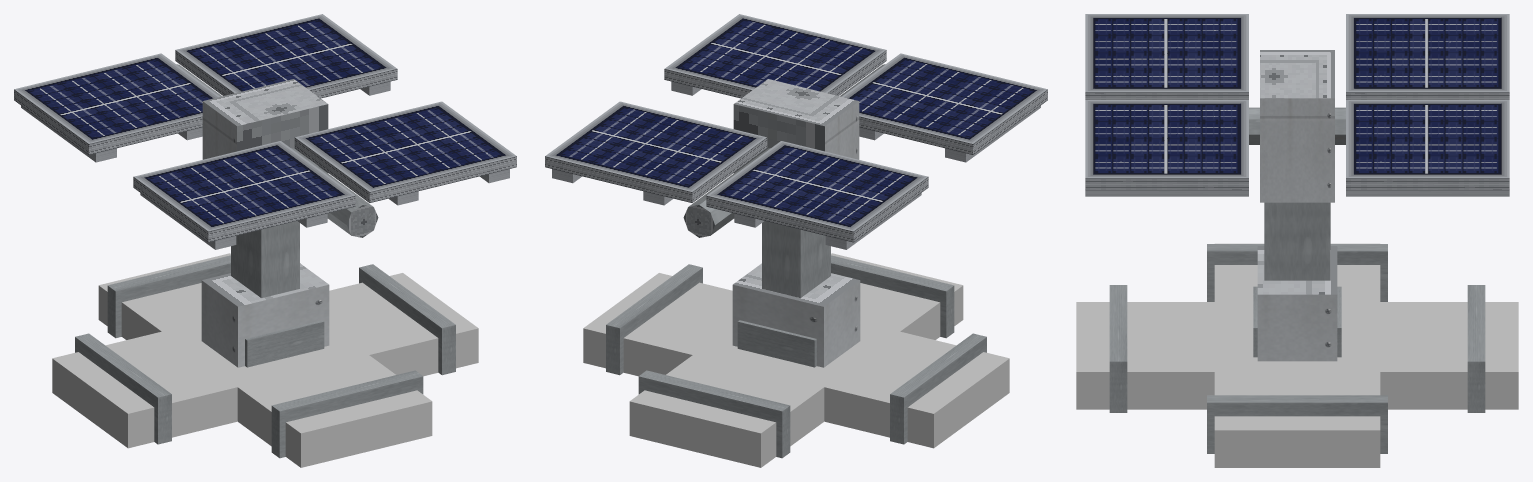
The model's file is pv_track.obj.
The picture shows the model from 3 angles, left to right: view 1: azimuth 30°, elevation 25°; view 2: azimuth 150°, elevation 25°; view 3: azimuth 270°, elevation 25°; orthographic projection. The views are drawn at different scales.
Visible parts, largest first — view 1: rotate_modules, harness_west, harness_south, harness_east, harness, motor, harness_north, pier, rotate_rails, rotate_tube; view 2: rotate_modules, harness_west, harness_north, harness_east, harness, motor, harness_south, pier, rotate_rails, rotate_tube; view 3: rotate_modules, harness_east, harness_north, harness_south, motor, harness_west, harness, pier, rotate_rails, rotate_tube.
Boxes of the visible parts, box(x1,y1,x2,y2) form: rotate_modules: box(14, 14, 516, 242); harness_west: box(52, 322, 296, 448); harness_south: box(237, 343, 432, 467); harness_east: box(286, 264, 478, 376); harness: box(201, 263, 329, 367); motor: box(202, 79, 328, 173); harness_north: box(98, 253, 230, 339); pier: box(231, 221, 299, 297); rotate_rails: box(21, 81, 509, 249); rotate_tube: box(176, 64, 378, 237); rotate_modules: box(545, 14, 1047, 242); harness_west: box(759, 322, 1009, 448); harness_north: box(629, 345, 824, 467); harness_east: box(583, 264, 775, 376); harness: box(732, 263, 860, 367); motor: box(733, 79, 859, 173); harness_south: box(831, 253, 963, 339); pier: box(762, 221, 830, 297); rotate_rails: box(552, 81, 1040, 249); rotate_tube: box(683, 64, 885, 237); rotate_modules: box(1085, 14, 1509, 190); harness_east: box(1207, 337, 1387, 467); harness_north: box(1297, 285, 1518, 412); harness_south: box(1076, 285, 1297, 412); motor: box(1260, 50, 1334, 202); harness_west: box(1207, 243, 1387, 336); harness: box(1253, 246, 1341, 361); pier: box(1264, 202, 1330, 280); rotate_rails: box(1085, 190, 1509, 196); rotate_tube: box(1249, 107, 1345, 144).
Size of what is drawn, in the model's own units: 1 by 0.75 by 1.
